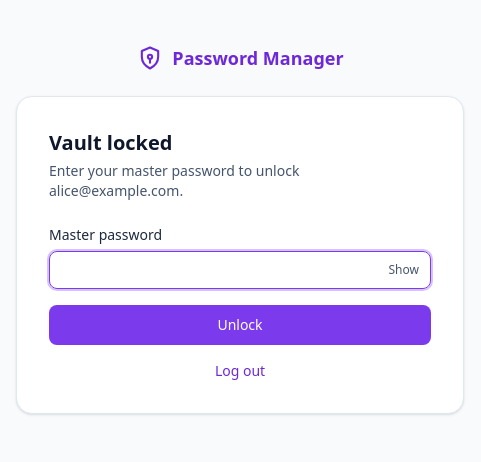
it: unlock page › logs out from the lock screen
The image size is (481, 462).
Click the button "Log out" at x=240, y=371, box [215, 361, 265, 381]
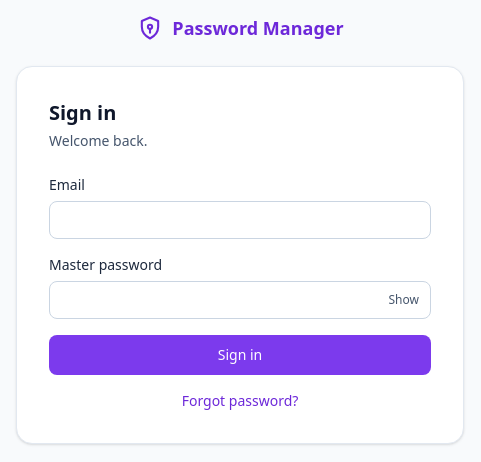
Now the heading "Sign in" is shown, box [49, 99, 116, 126]
